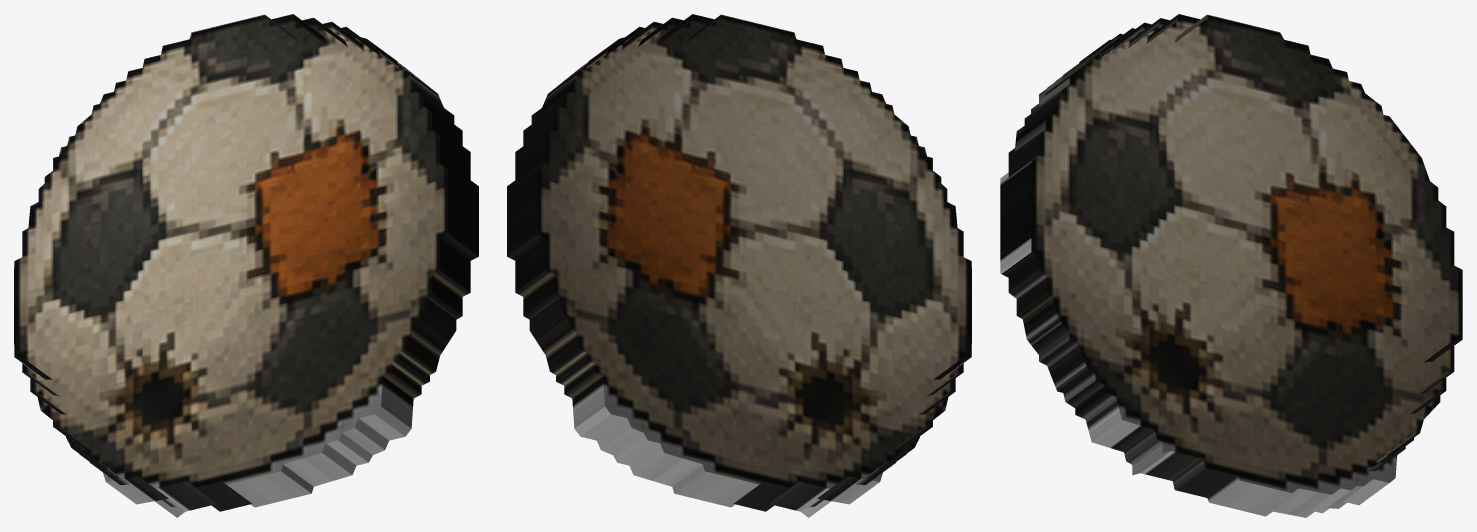
The model's file is soccer_ball.glb.
3 views of the same model, side by side, from view 1: azimuth 30°, elevation 25°; view 2: azimuth 150°, elevation 25°; view 3: azimuth 330°, elevation 25° (orthographic).
Parts seen in each view (by area): view 1: world; view 2: world; view 3: world.
Part boxes in pixels (<box>): world: <box>14,14,478,517</box>; world: <box>507,14,971,517</box>; world: <box>1000,14,1462,517</box>.
Bounding box in the file's own units: 2.13 × 2.16 × 0.2604.
1 material, 1 textured.
